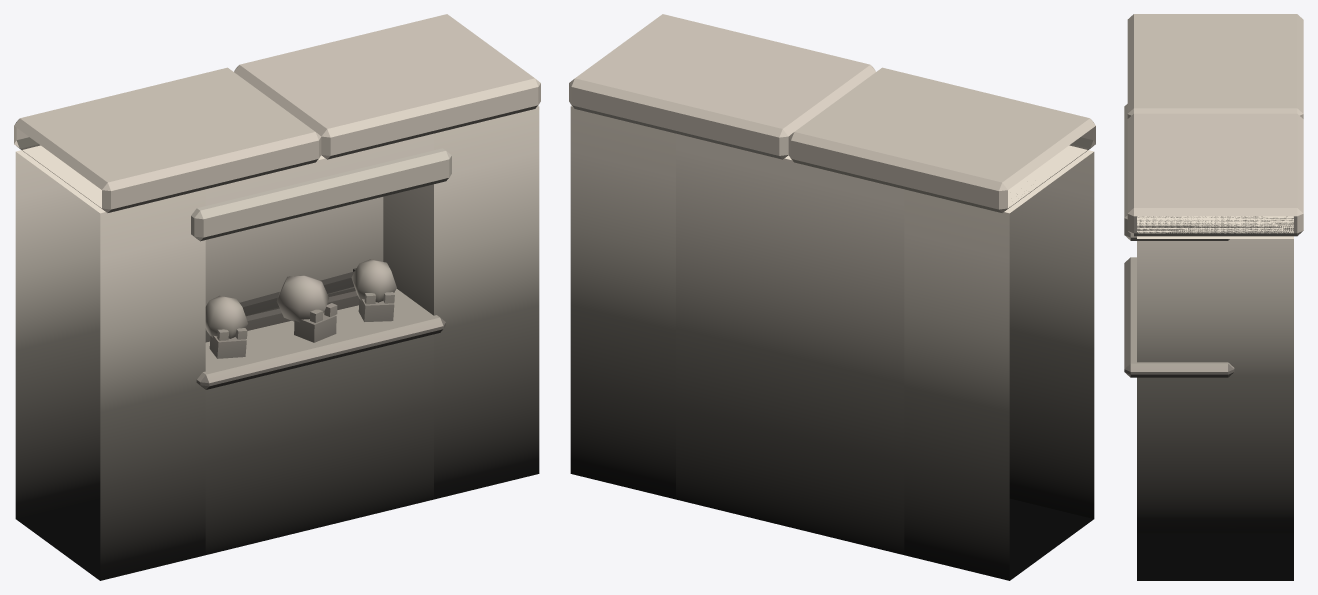
Rendered from SM_VKI_Wall_Dungeon_Niche_150_Cut.fbx.
3 views of the same model, side by side, from view 1: azimuth 30°, elevation 25°; view 2: azimuth 150°, elevation 25°; view 3: azimuth 270°, elevation 25° (orthographic). The views are drawn at different scales.
Visible parts, largest first — view 1: SM_VKI_Wall_Dungeon_Niche_150_Cut.001; view 2: SM_VKI_Wall_Dungeon_Niche_150_Cut.001; view 3: SM_VKI_Wall_Dungeon_Niche_150_Cut.001.
Part boxes in pixels (box(x1,y1,x2,y2)): SM_VKI_Wall_Dungeon_Niche_150_Cut.001: box(14, 14, 540, 580); SM_VKI_Wall_Dungeon_Niche_150_Cut.001: box(569, 14, 1095, 580); SM_VKI_Wall_Dungeon_Niche_150_Cut.001: box(1124, 14, 1303, 580).
Size of the model in its own units: 1.5 by 1.3 by 0.57.
